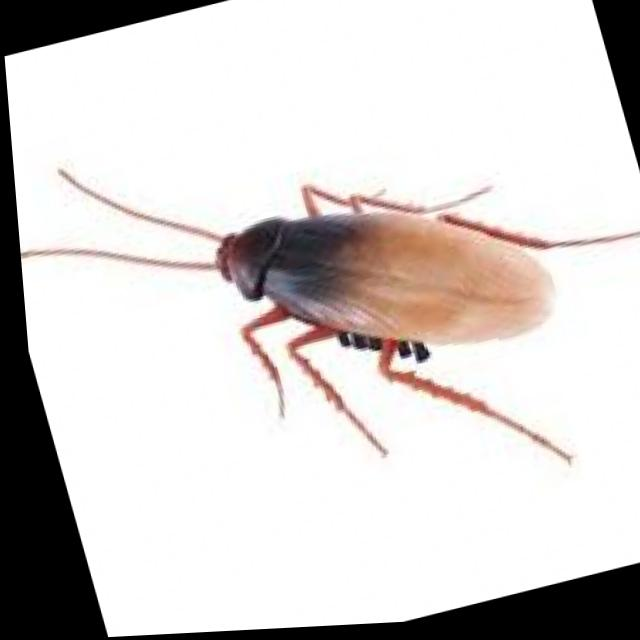Cockroach: (39, 50, 640, 548)
